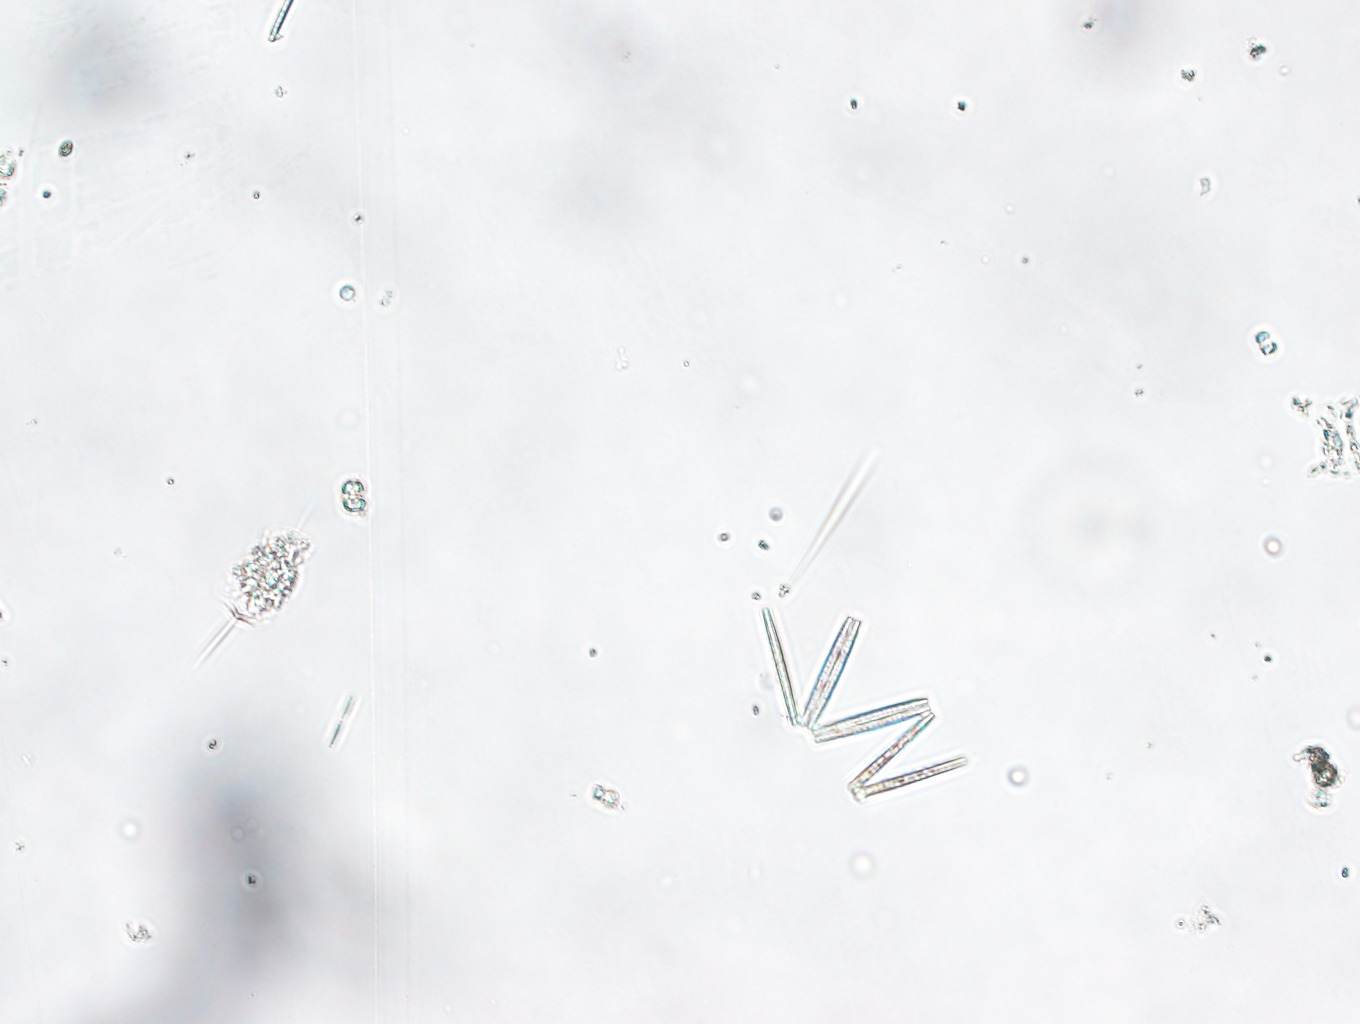thalassionema nitzschioides: (751, 606, 973, 801)
